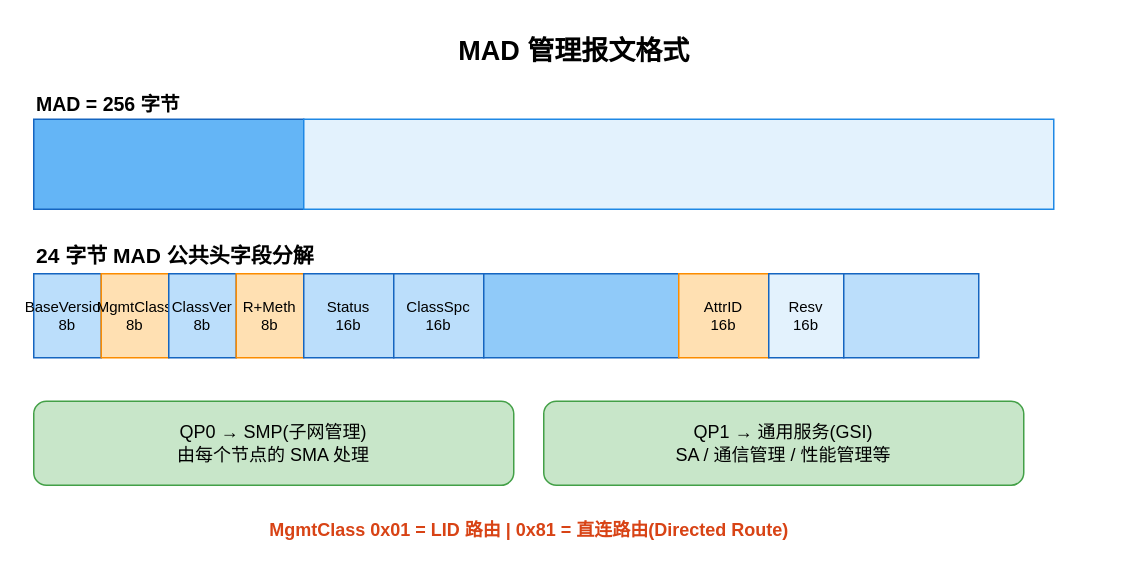
The diagram is 1140 pixels wide and 570 high, and some of its shapes have lost their labels. The shapes that lost their labels are listed below. From the top down, each one's centre as x and y in pixels, then its label:
At point 168,163: "MAD 公共头 (24 B)".
At point 678,163: "类特定数据 (232 B)".
At point 580,315: "TransactionID 64b".
At point 910,315: "AttrMod 32b".
